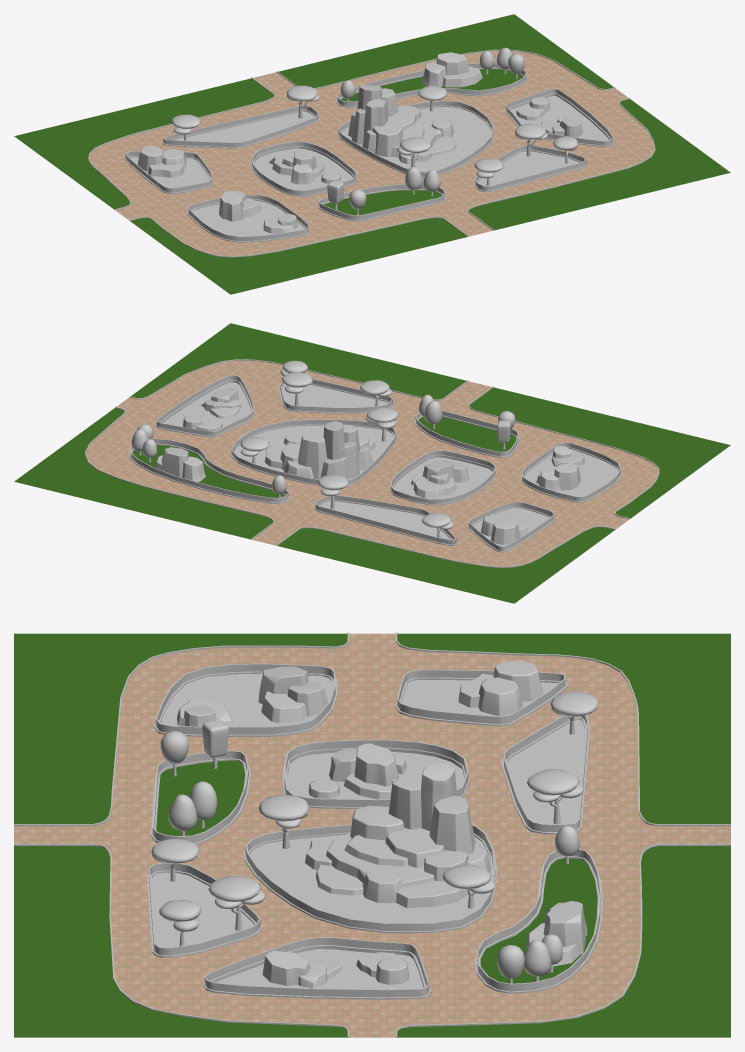
The model's file is Zoo_01.fbx.
The picture shows the model from 3 angles, top to bottom: view 1: azimuth 30°, elevation 25°; view 2: azimuth 150°, elevation 25°; view 3: azimuth 270°, elevation 25°; orthographic projection. The views are drawn at different scales.
Parts seen in each view (by area): view 1: Zoo_01; view 2: Zoo_01; view 3: Zoo_01.
Part boxes in pixels (bbox=[...]): Zoo_01: bbox=[14, 14, 730, 294]; Zoo_01: bbox=[14, 323, 730, 603]; Zoo_01: bbox=[14, 632, 730, 1037].
Size of the model in its own units: 12000 by 9000 by 1509.
